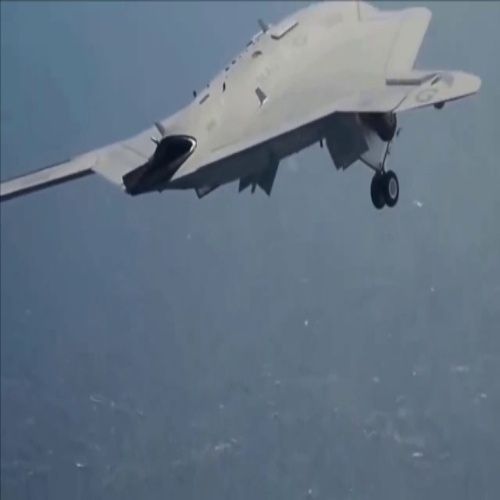uav: (1, 2, 485, 211)
